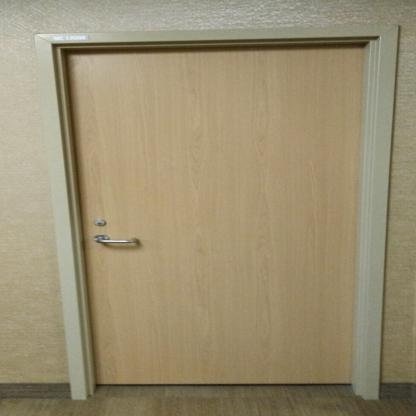door: (84, 44, 360, 382)
lever: (94, 236, 140, 245)
